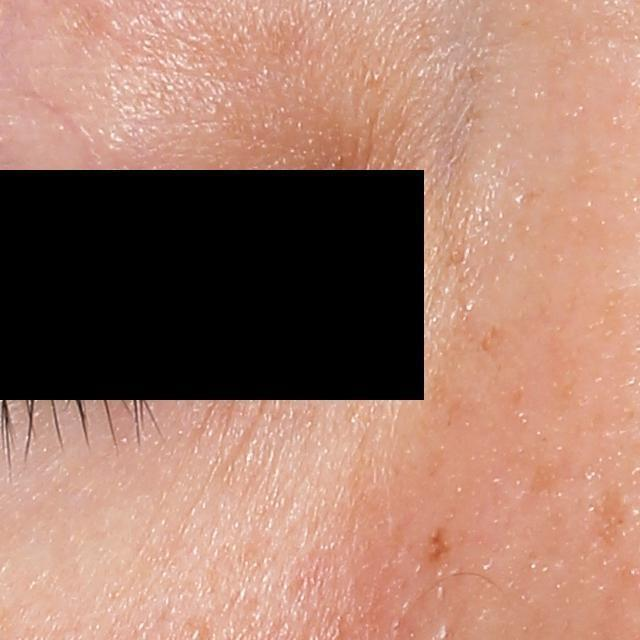melasma: (424, 365, 466, 432), (591, 482, 630, 554), (526, 459, 580, 502), (476, 322, 510, 360)
